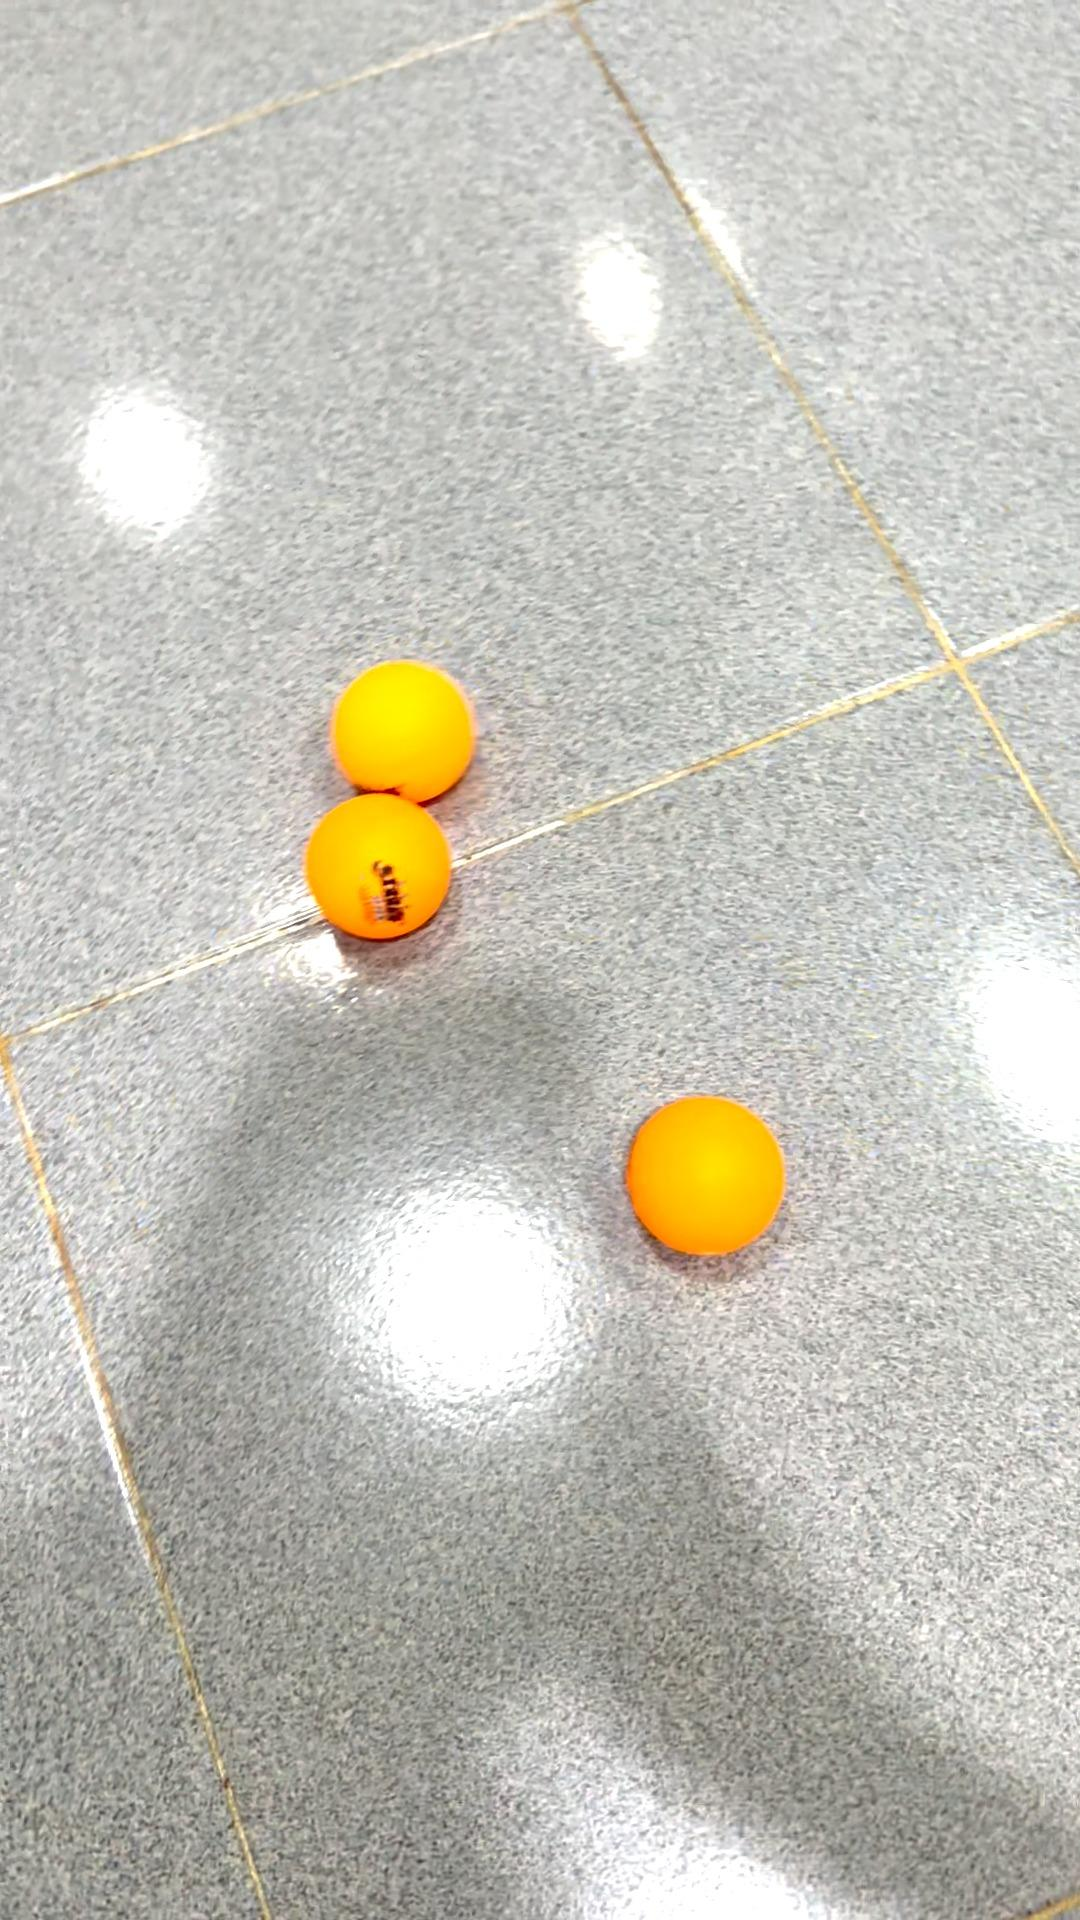oball: (615, 1088, 806, 1270), (287, 778, 473, 948), (324, 658, 484, 812)
